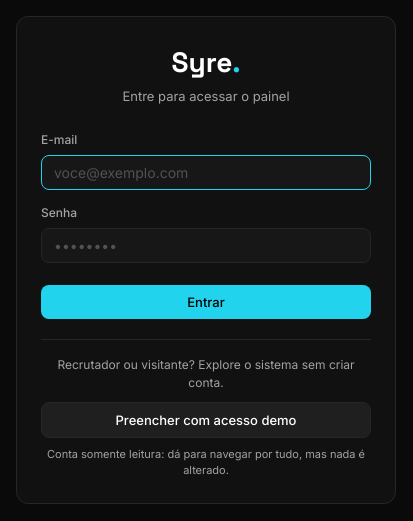
Test: Login › o botão de acesso demo preenche e-mail e senha com um clique, sem enviar o formulário
Click the button "Preencher com acesso demo": (206, 420) [41,402,371,438]
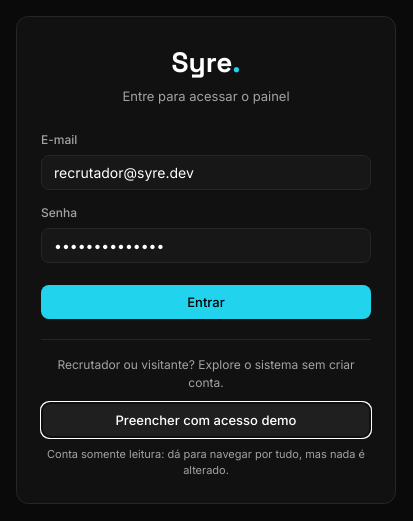
Expected: the field with placeholder "voce@exemplo.com" holds "recrutador@syre.dev", [41,155,371,190]
Expected: the password field with placeholder "••••••••" holds "demo-syre-2026", [41,228,371,263]
